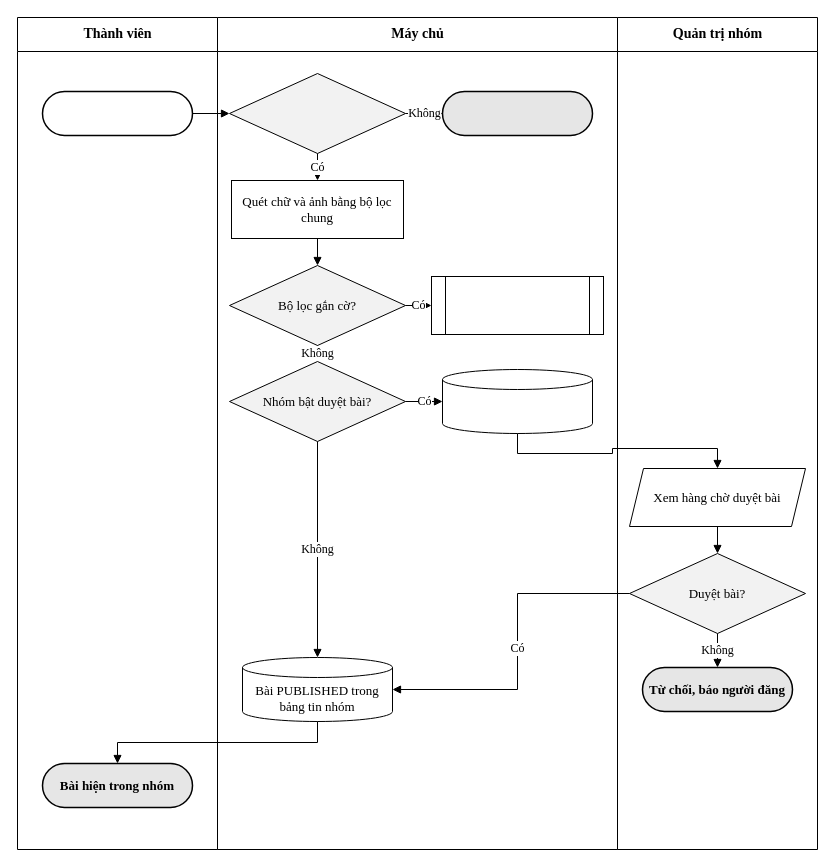
This 835x867 diagram has some shape labels left out. The shapes that lost their labels are listed below. From the top down, each one's centre as x and y in pixels, then its label:
At point 117,113: "Viết bài trong nhóm".
At point 317,113: "Được đăng trong nhóm?".
At point 517,113: "Lỗi 403, app báo lý do".
At point 517,305: "Hàng đợi kiểm duyệt app (C1)".
At point 517,401: "Ghi bài PENDING".
